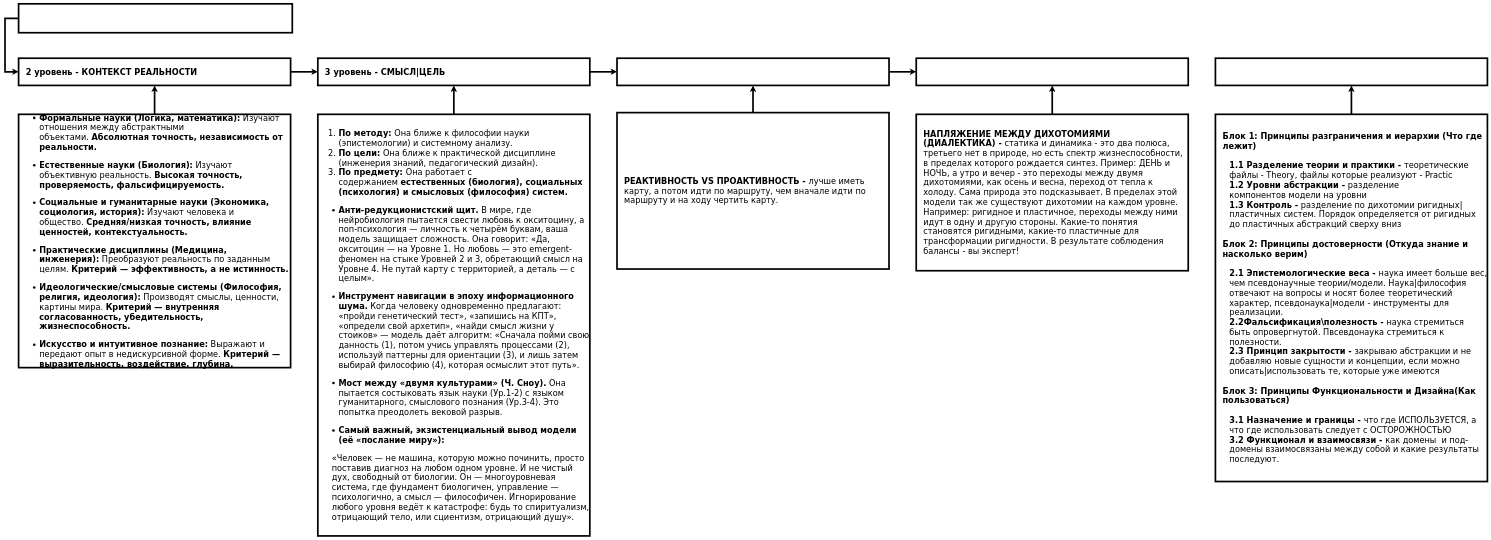
The diagram is 1491 pixels wide and 540 high, and some of its shapes have lost their labels. The centre of each missing label's shape, as x and y in pixels:
"4 уровень - ЦЕННОСТИ" goes at point 753,71.
"5 уровень - УБЕЖДЕНИЯ" goes at point 1052,71.
"6 уровень - ПРИНЦИПЫ" goes at point 1351,71.
"Архитектурные неизменности вертикали в рамках этой модели" goes at point 155,18.
